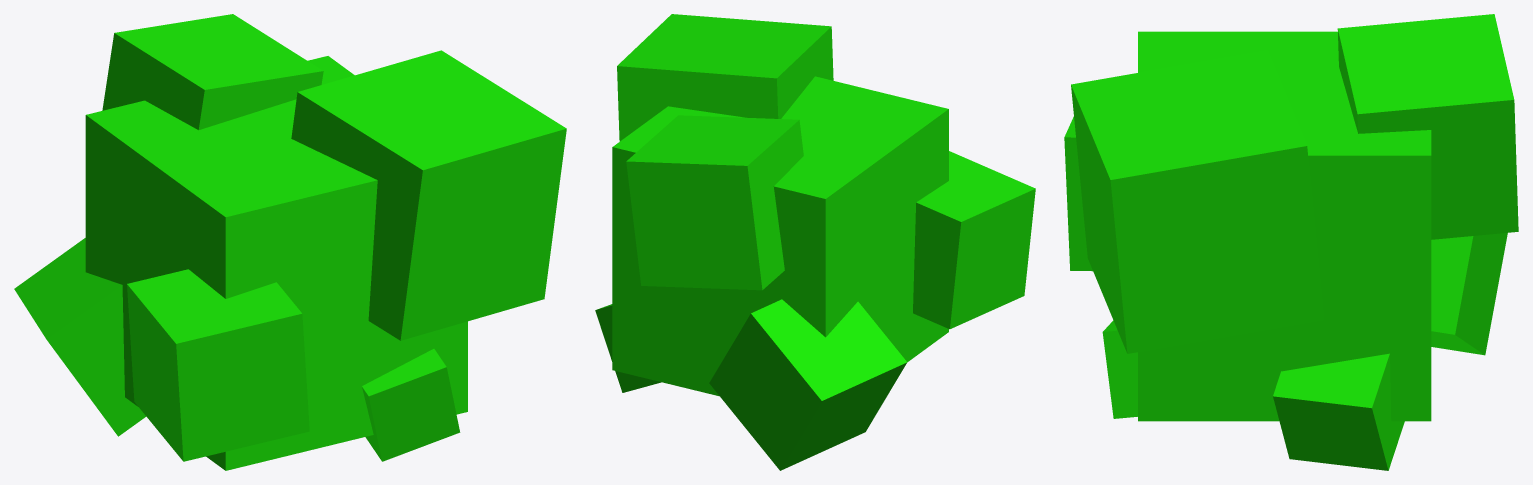
Rendered from salt.fbx.
3 renders of one model, left to right at view 1: azimuth 30°, elevation 25°; view 2: azimuth 150°, elevation 25°; view 3: azimuth 270°, elevation 25°, orthographic. The views are drawn at different scales.
Visible parts, largest first — view 1: Salt; view 2: Salt; view 3: Salt.
Boxes of the visible parts, x1,y1,x2,y2 form: Salt: [14, 14, 566, 470]; Salt: [595, 14, 1035, 470]; Salt: [1064, 14, 1518, 470].
Bounding box in the file's own units: 9506 × 7805 × 8878.
